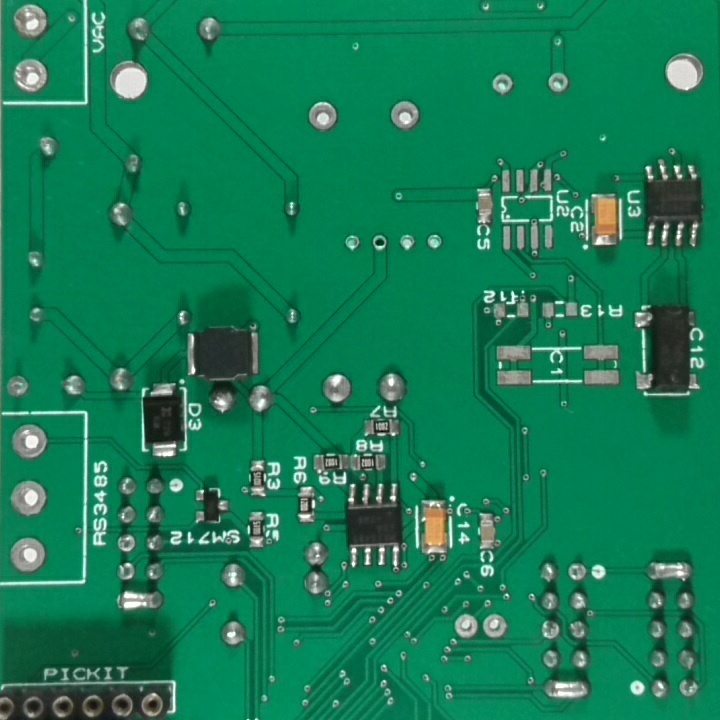F: (10, 422, 51, 463), (7, 535, 49, 575), (10, 3, 52, 43), (7, 480, 51, 518), (386, 100, 427, 135), (12, 57, 51, 93), (306, 98, 340, 135), (479, 614, 510, 643), (490, 72, 519, 98), (4, 372, 30, 400), (453, 612, 478, 639), (547, 70, 570, 95), (538, 619, 561, 643), (678, 675, 700, 700), (341, 232, 364, 255), (113, 531, 135, 555), (426, 231, 447, 255), (370, 231, 389, 255), (398, 233, 419, 253), (567, 563, 587, 583)
P: (542, 673, 593, 702), (113, 588, 169, 614), (641, 559, 696, 585)
